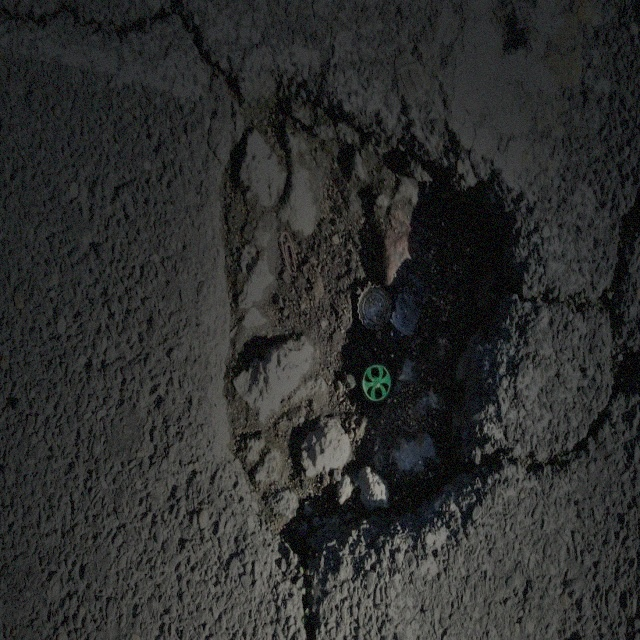pothole: (212, 72, 531, 590)
